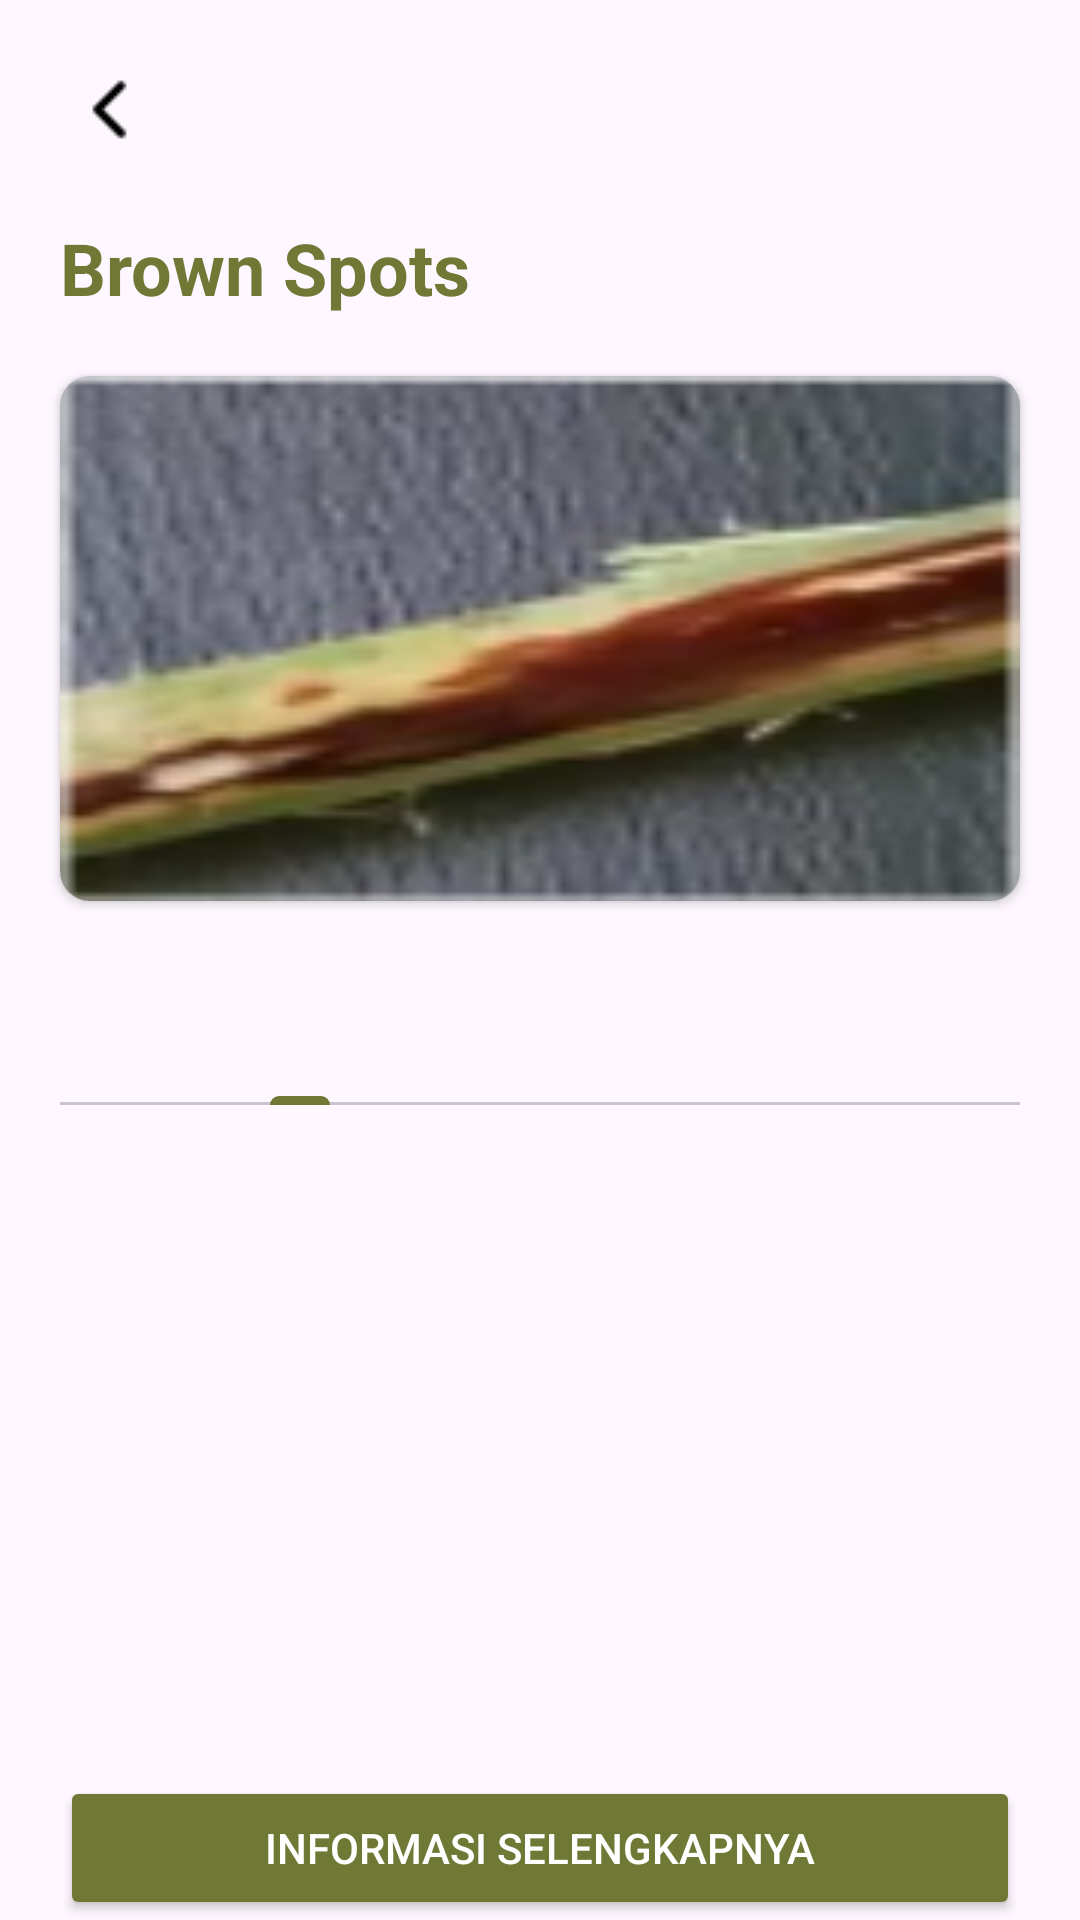

Screen size 1080 × 1920. Icon name, then its box in pixels as (x1, y1, x2, y2):
general back arrow: (92, 80, 127, 139)
